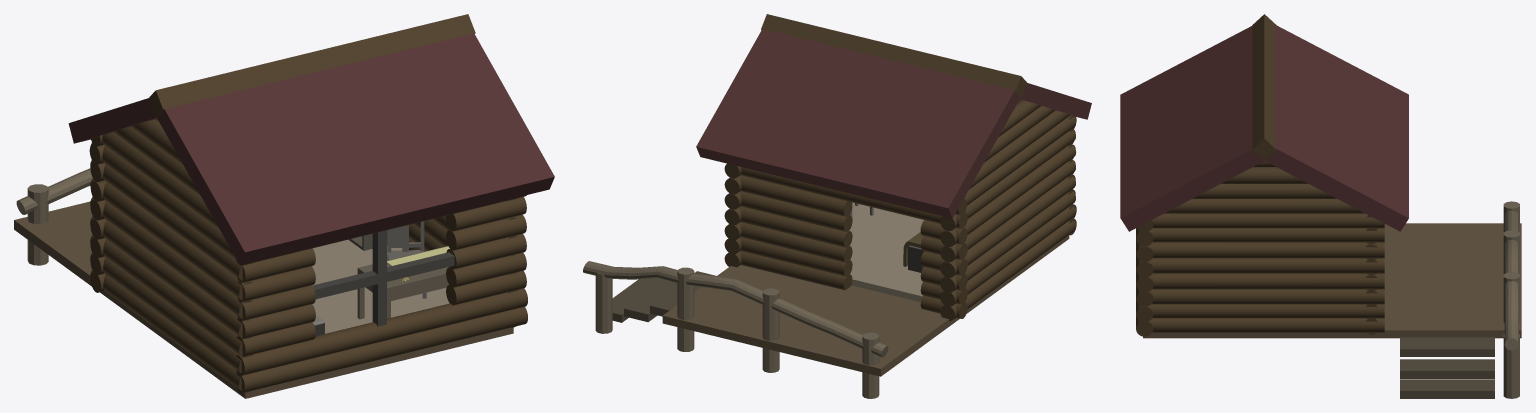
The model's file is Cabin.fbx.
The picture shows the model from 3 angles, left to right: view 1: azimuth 30°, elevation 25°; view 2: azimuth 150°, elevation 25°; view 3: azimuth 270°, elevation 25°; orthographic projection. The views are drawn at different scales.
Parts seen in each view (by area): view 1: pasted__pCube12, pasted__pasted__pasted__pCylinder2 (×14), pasted__pasted__pCylinder2 (×2), pasted__pCylinder2 (×2), flooring, pasted__pasted__pCube8, pasted__pCube8, pasted__pCube11, pCube12, Desk, pasted__pasted__pasted__pasted__pCylinder2, pCube11 (+4 smaller); view 2: pCube12, pasted__pasted__pasted__pCylinder2 (×13), pasted__pasted__pCube8, flooring, pasted__pasted__pCylinder3 (×2), pasted__pCylinder2 (×2), pasted__pasted__pCylinder2 (×2), pasted__pCylinder3 (×2), pasted__pCube12, pCylinder3, pasted__pasted__pasted__pasted__pCube8, pasted__pasted__pasted__pasted__pCylinder2 (+4 smaller); view 3: pasted__pasted__pCylinder2 (×7), pCube12, pasted__pCube12, pasted__pasted__pCube8, pCylinder2, pasted__pCylinder2, pasted__pasted__pasted__pCylinder2, pasted__pasted__pCylinder3 (×2), pasted__pasted__pasted__pCube8, pasted__pasted__pasted__pasted__pCube8, pasted__pasted__pasted__pasted__pasted__pCube8, pasted__pasted__pasted__pasted__pasted__pCylinder2 (+2 smaller).
Part boxes in pixels (<box>): pasted__pCube12: <box>151,33,554,264</box>; pasted__pasted__pasted__pCylinder2 (×14): <box>90,14,526,357</box>; pasted__pasted__pCylinder2 (×2): <box>90,252,527,375</box>; pasted__pCylinder2 (×2): <box>90,270,527,393</box>; flooring: <box>312,239,449,333</box>; pasted__pasted__pCube8: <box>14,201,104,294</box>; pasted__pCube8: <box>103,291,513,398</box>; pasted__pCube11: <box>312,252,454,299</box>; pCube12: <box>68,98,161,143</box>; Desk: <box>357,246,448,319</box>; pasted__pasted__pasted__pasted__pCylinder2: <box>113,126,200,195</box>; pCube11: <box>372,230,386,326</box>; pCube12: <box>696,29,1024,218</box>; pasted__pasted__pasted__pCylinder2 (×13): <box>739,14,1076,292</box>; pasted__pasted__pCube8: <box>662,265,954,376</box>; flooring: <box>849,202,923,302</box>; pasted__pasted__pCylinder3 (×2): <box>583,261,888,357</box>; pasted__pCylinder2 (×2): <box>740,221,1075,321</box>; pasted__pasted__pCylinder2 (×2): <box>740,206,1075,306</box>; pasted__pCylinder3 (×2): <box>677,267,879,398</box>; pasted__pCube12: <box>1019,83,1091,119</box>; pCylinder3: <box>762,288,779,372</box>; pasted__pasted__pasted__pasted__pCube8: <box>624,279,677,322</box>; pasted__pasted__pasted__pasted__pCylinder2: <box>984,106,1055,162</box>; pasted__pasted__pCylinder2 (×7): <box>1149,199,1384,304</box>; pCube12: <box>1256,25,1408,231</box>; pasted__pCube12: <box>1120,26,1270,231</box>; pasted__pasted__pCube8: <box>1373,223,1521,338</box>; pCylinder2: <box>1150,318,1384,332</box>; pasted__pCylinder2: <box>1150,304,1384,318</box>; pasted__pasted__pasted__pCylinder2: <box>1252,14,1276,160</box>; pasted__pasted__pCylinder3 (×2): <box>1503,210,1519,398</box>; pasted__pasted__pasted__pCube8: <box>1400,337,1494,356</box>; pasted__pasted__pasted__pasted__pCube8: <box>1400,359,1494,378</box>; pasted__pasted__pasted__pasted__pasted__pCube8: <box>1400,379,1494,398</box>; pasted__pasted__pasted__pasted__pasted__pCylinder2: <box>1192,184,1336,198</box>.
Bounding box in the file's own units: 42.03 × 30.31 × 46.46.
